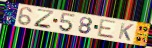5: (58, 11, 77, 33)
6: (17, 6, 34, 27)
8: (78, 17, 94, 35)
E: (96, 18, 118, 40)
K: (117, 22, 135, 42)
Z: (33, 8, 56, 30)
